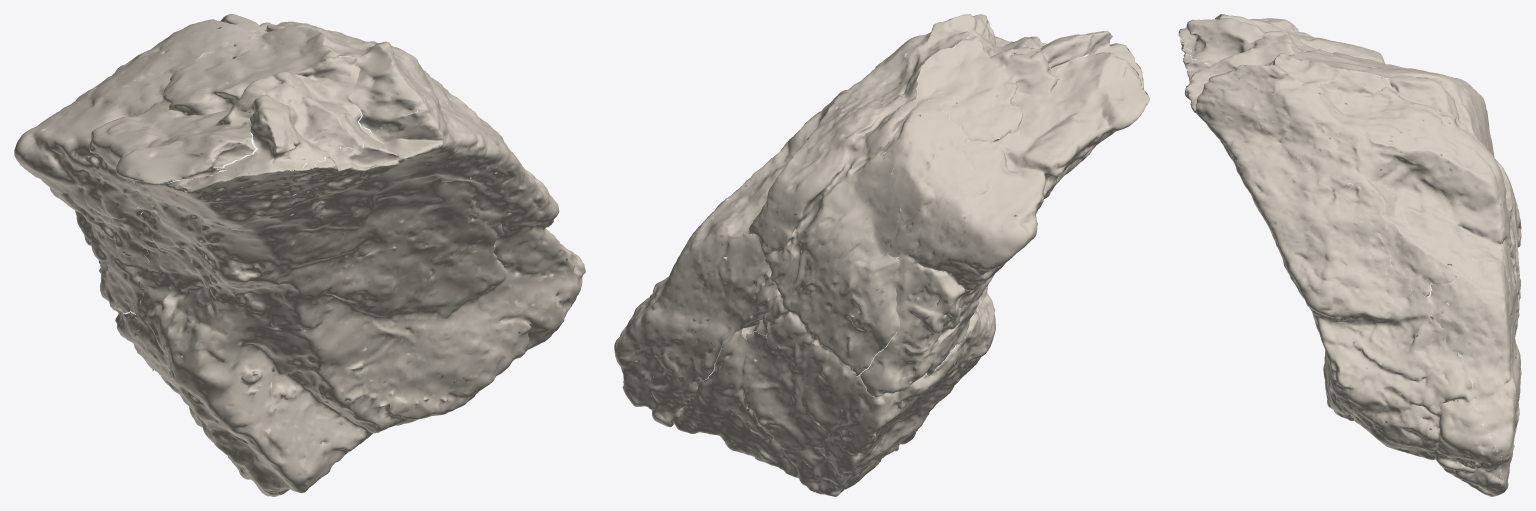
The model's file is rock_17_cand03.glb.
3 views of the same model, side by side, from view 1: azimuth 30°, elevation 25°; view 2: azimuth 150°, elevation 25°; view 3: azimuth 270°, elevation 25° (orthographic). The views are drawn at different scales.
Parts seen in each view (by area): view 1: world; view 2: world; view 3: world.
Part boxes in pixels (x1=…): world: x1=14, y1=14, x2=585, y2=496; world: x1=614, y1=14, x2=1149, y2=496; world: x1=1178, y1=14, x2=1521, y2=496.
Bounding box in the file's own units: 1.61 × 1.51 × 1.2.
